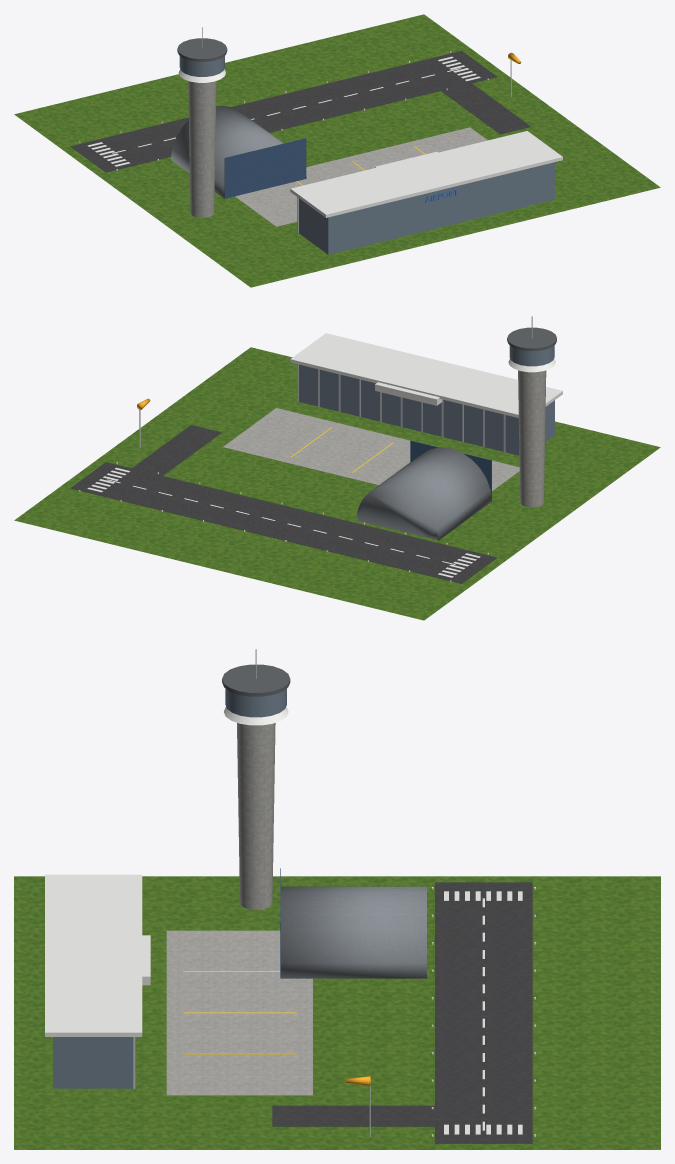
File: airport.gltf
3 renders of one model, top to bottom at view 1: azimuth 30°, elevation 25°; view 2: azimuth 150°, elevation 25°; view 3: azimuth 270°, elevation 25°, orthographic. The views are drawn at different scales.
Visible parts, largest first — view 1: airport; view 2: airport; view 3: airport.
Part boxes in pixels (box(x1,y1,x2,y2)): airport: box(14, 14, 660, 287); airport: box(14, 316, 660, 620); airport: box(14, 649, 660, 1149).
Size of the model in its own units: 15.92 by 6.9 by 15.92.
Materials: 13 (5 with a texture image).
